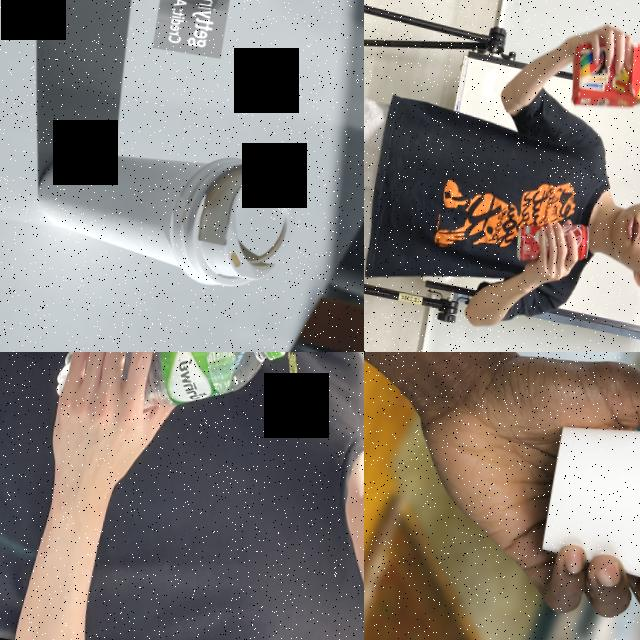bottle: (52, 352, 290, 433)
can: (511, 212, 592, 273)
cup: (24, 125, 304, 296), (533, 394, 640, 627)
